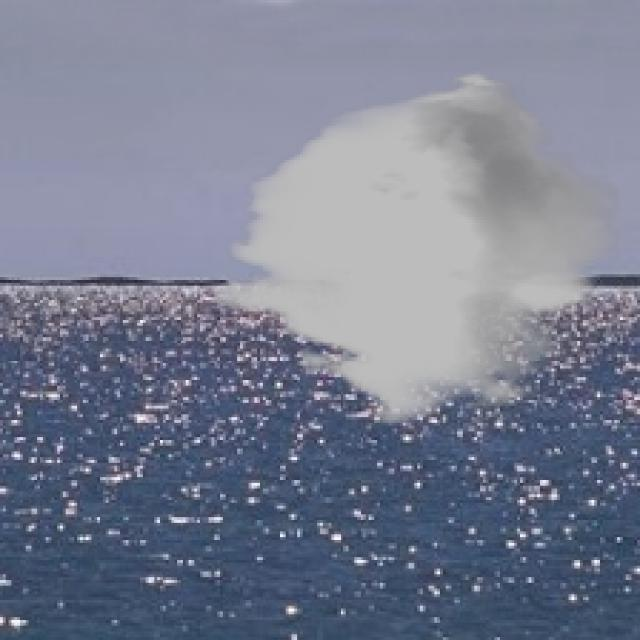smoke: (214, 71, 620, 426)
